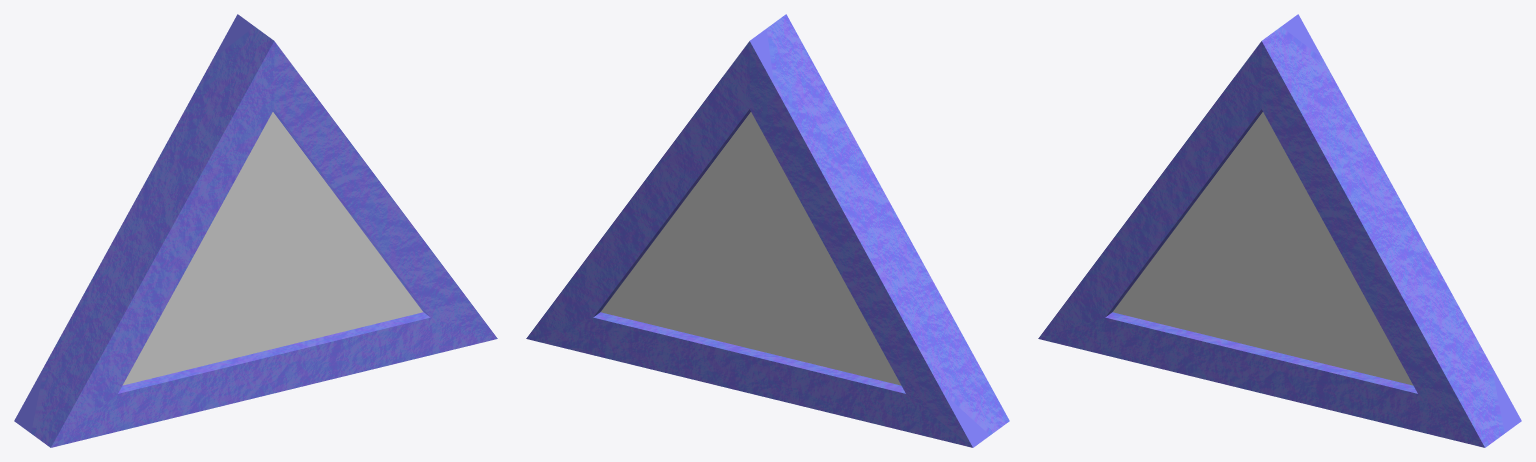
The model's file is TrianglePiece.fbx.
The picture shows the model from 3 angles, left to right: view 1: azimuth 30°, elevation 25°; view 2: azimuth 150°, elevation 25°; view 3: azimuth 330°, elevation 25°; orthographic projection.
Parts seen in each view (by area): view 1: triangle; view 2: triangle; view 3: triangle.
Part boxes in pixels (x1,y1,x2,y2): triangle: [14, 14, 497, 447]; triangle: [526, 14, 1009, 447]; triangle: [1038, 14, 1521, 447].
Size of the model in its own units: 265 by 200 by 37.76.
2 materials, 1 textured.
